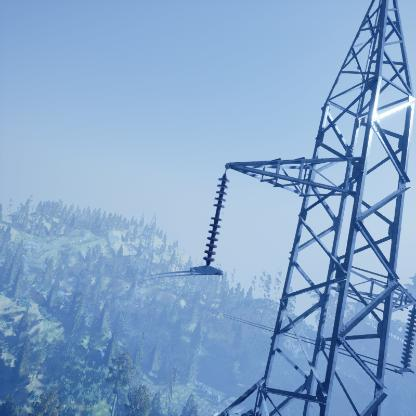insulator: (202, 176, 230, 264), (399, 308, 416, 370)
